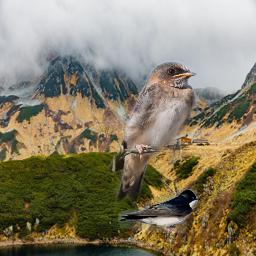Swallow: (107, 60, 198, 203), (118, 189, 198, 233)
